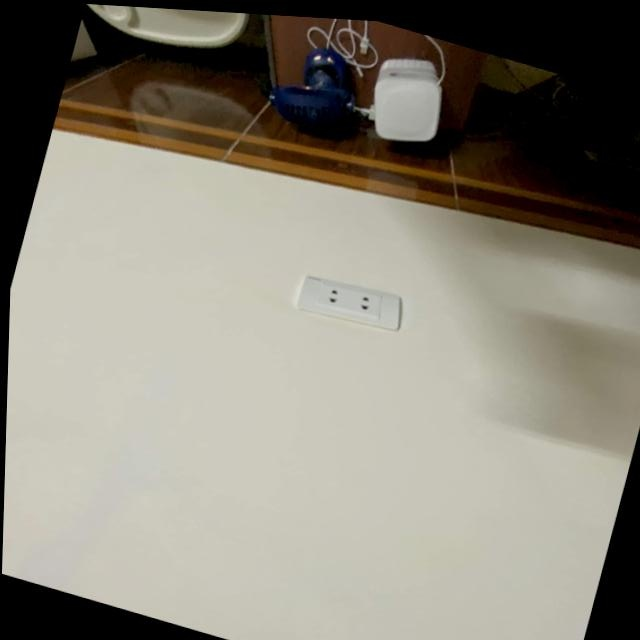outlet: (293, 269, 407, 340)
